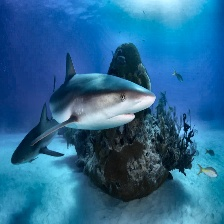shark: (11, 46, 158, 167)
